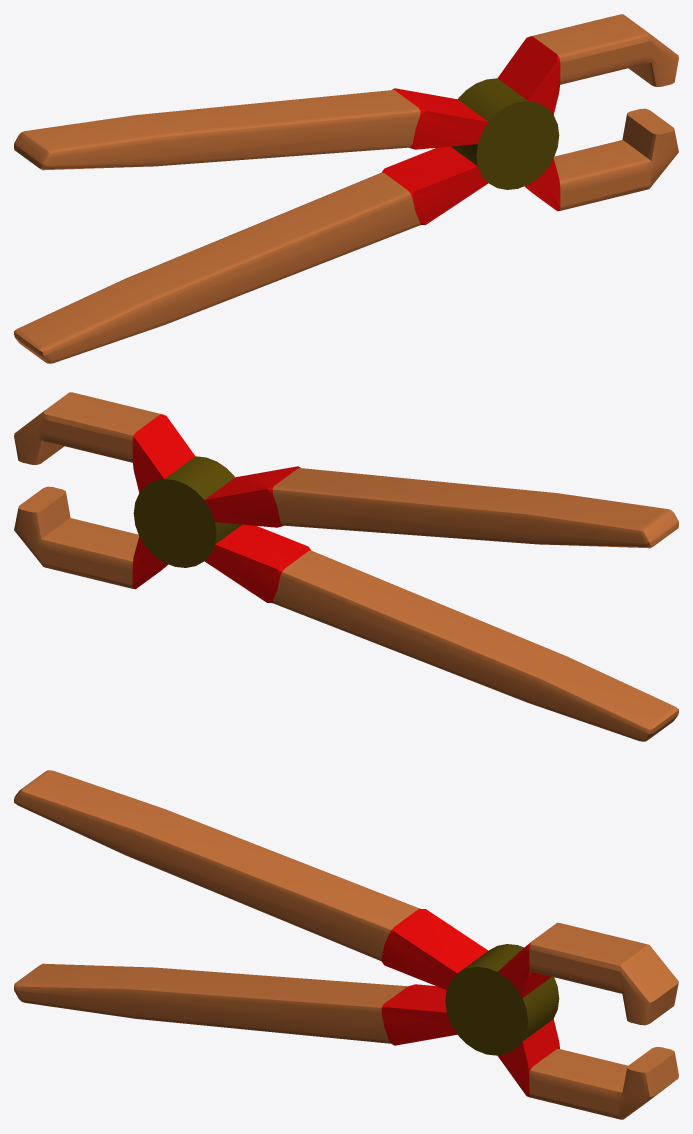
Rendered from forceps.fbx.
3 views of the same model, one above another, from view 1: azimuth 30°, elevation 25°; view 2: azimuth 150°, elevation 25°; view 3: azimuth 330°, elevation 25° (orthographic).
Parts seen in each view (by area): view 1: Forceps1; view 2: Forceps1; view 3: Forceps1.
Part boxes in pixels (x1,y1,x2,y2): Forceps1: (14,14,678,363); Forceps1: (14,392,678,741); Forceps1: (14,770,678,1119).
Bounding box in the file's own units: 68.81 × 22.03 × 5.8.
